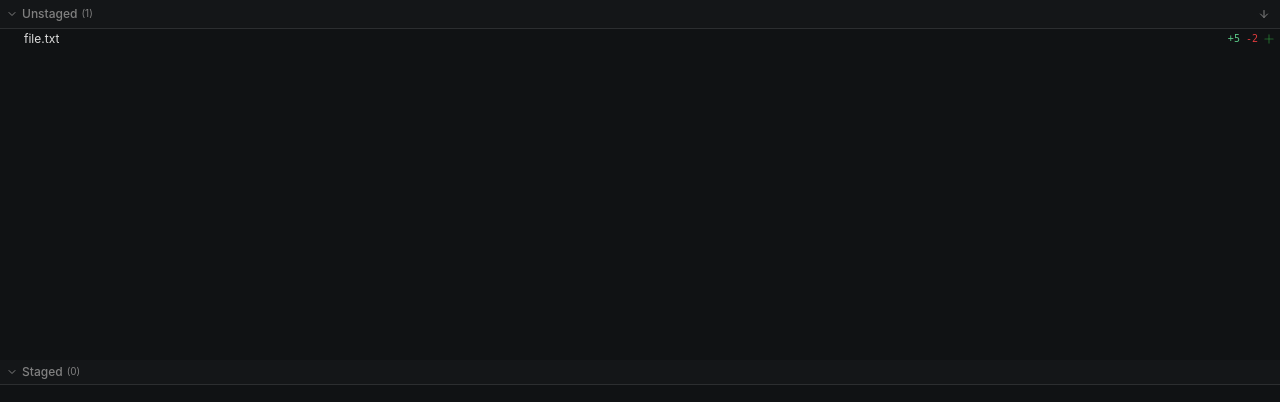
Test: DiffFileTree › section toggle › should collapse Unstaged section when header is clicked
Expected: the text "file.txt" is shown, [24,31,59,47]
// Click section header to collapse
Click the button "Unstaged (1)" at (49, 14), box [6,6,93,22]
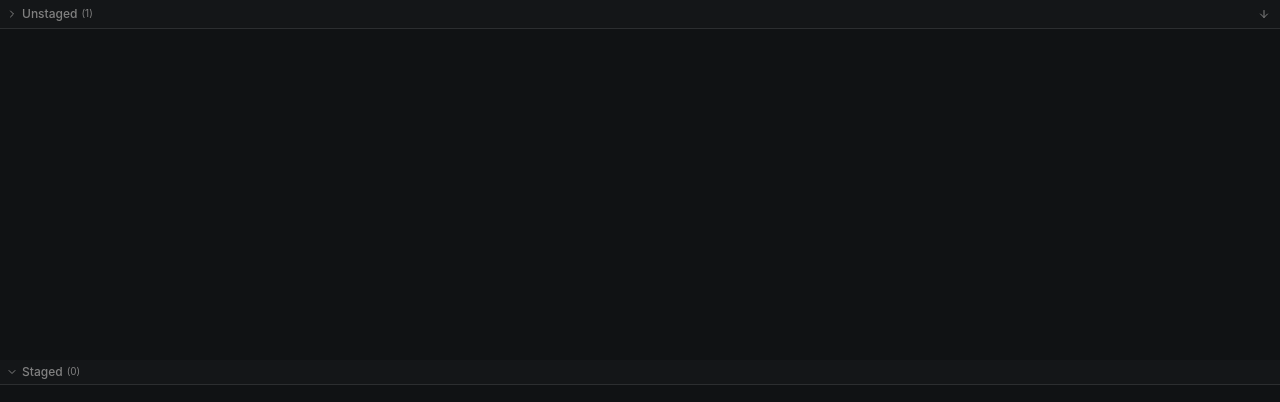
Expected: the button "file.txt" is gone
